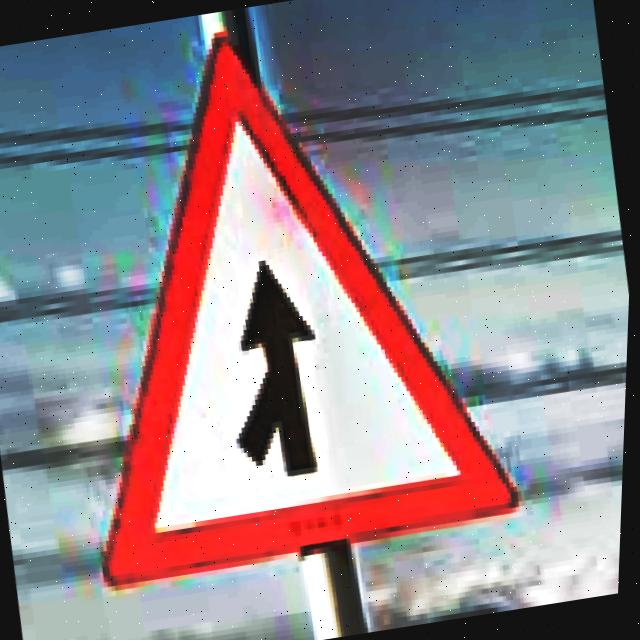leftmerge: (109, 36, 520, 585)
